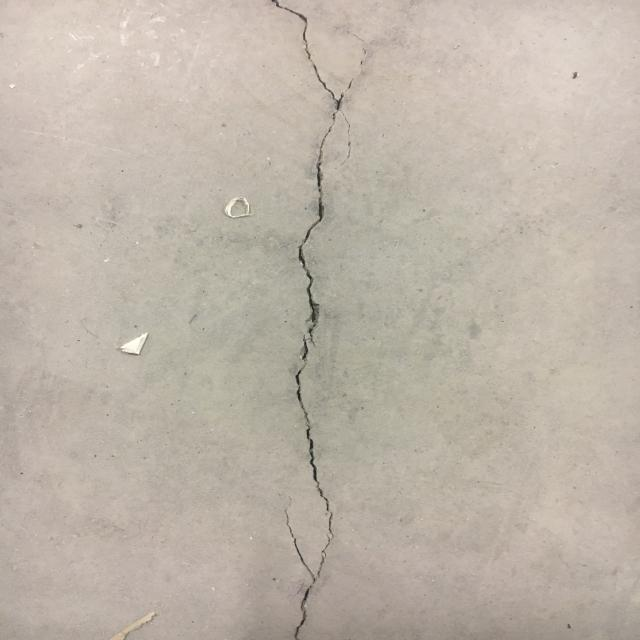Rachadura: (273, 0, 360, 640)
